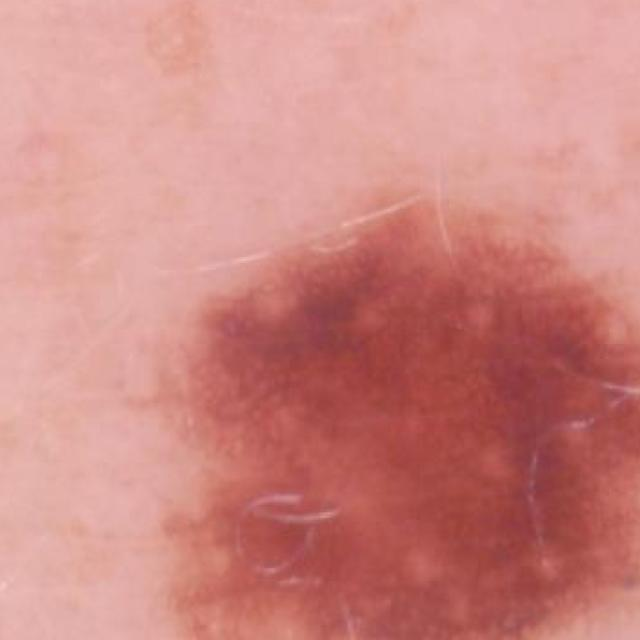NV: (131, 194, 640, 640)
